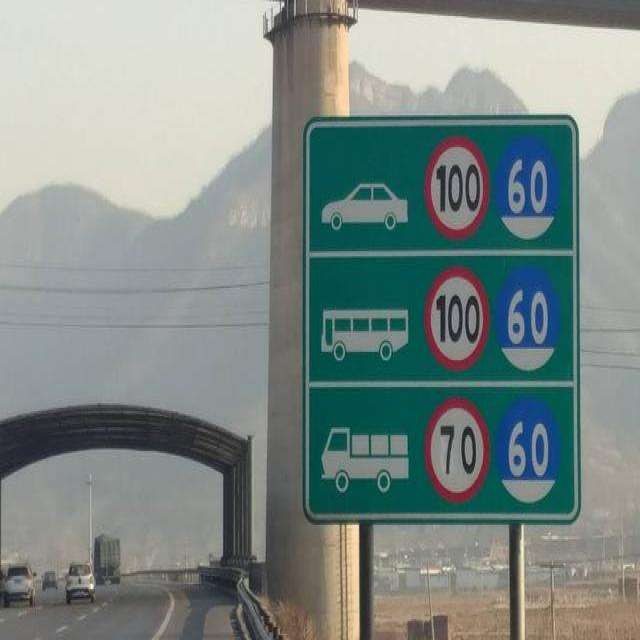speed limit 100: (425, 267, 489, 371), (424, 137, 488, 240)
speed limit 60: (497, 263, 562, 371), (496, 398, 561, 504), (494, 137, 560, 241)
speed limit 70: (425, 396, 489, 503)
